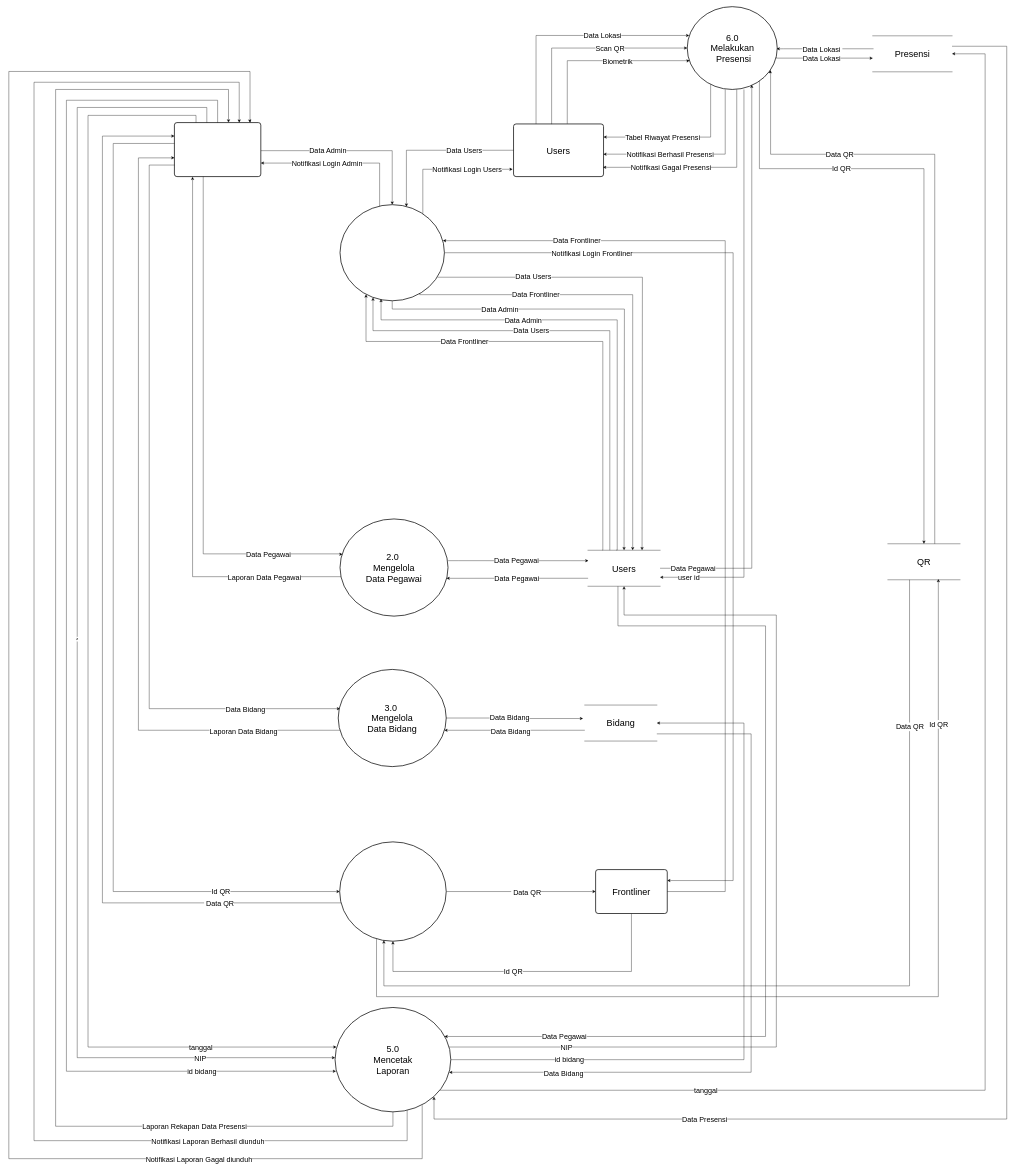
The diagram is 1016 pixels wide and 1170 high, and some of its shapes have lost their labels. Each missing label, with the centre of its shape:
1.0 Login Sistem: point (392, 252)
4.0 Generate QR Code: point (392, 891)
Admin: point (217, 149)
